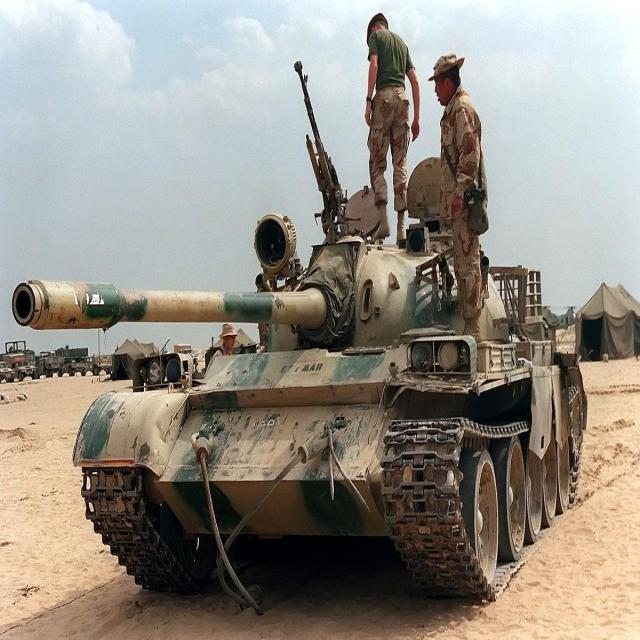Tanks: (18, 211, 604, 576)
